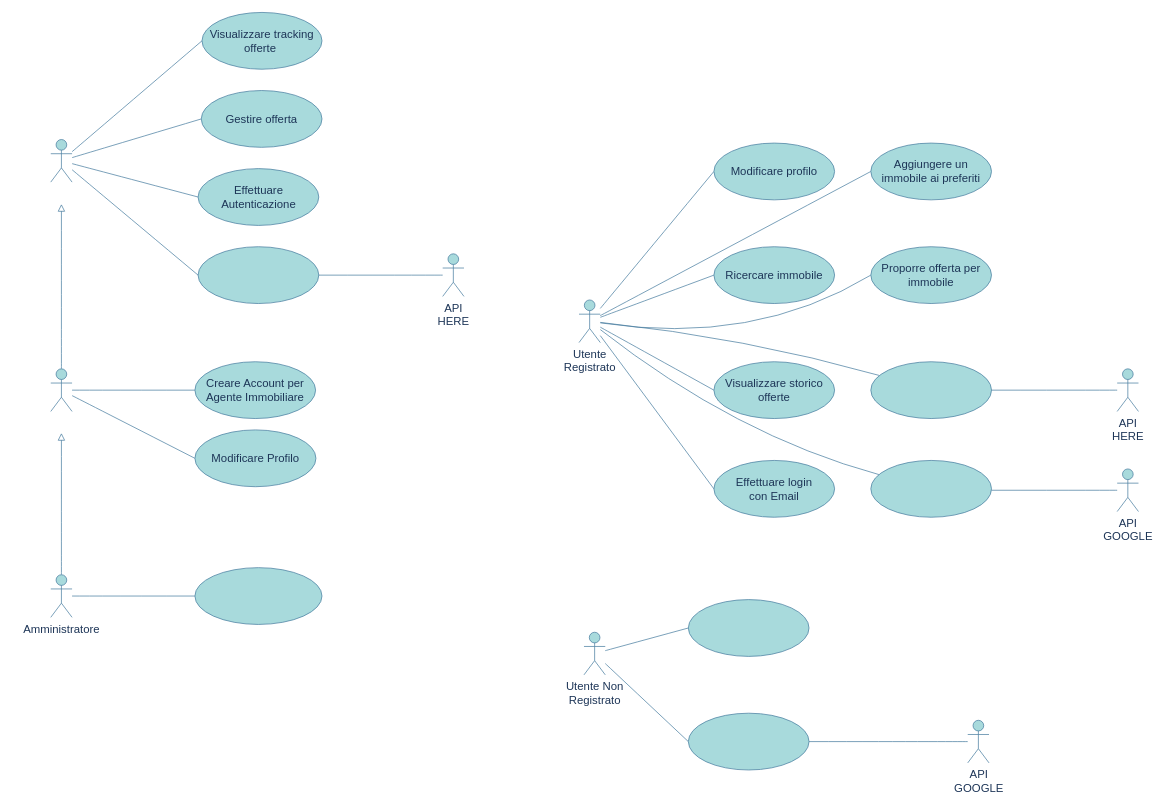
This 1164x807 diagram has some shape labels left out. Here are the shapes that lost their labels. From the top down, the box of each, then its label:
(50, 139, 72, 182): Agente Immobiliare
(197, 246, 319, 304): Caricare Immobile
(50, 368, 72, 411): Gestore Agenzie
(870, 361, 992, 419): Visualizzare informazioni immobile
(870, 460, 992, 517): Effettuare login con Google
(194, 567, 322, 624): Creare Account per Gestore Agenzie
(688, 599, 809, 656): Effettuare registrazione
(688, 712, 809, 770): Effettuare registrazione con Google
